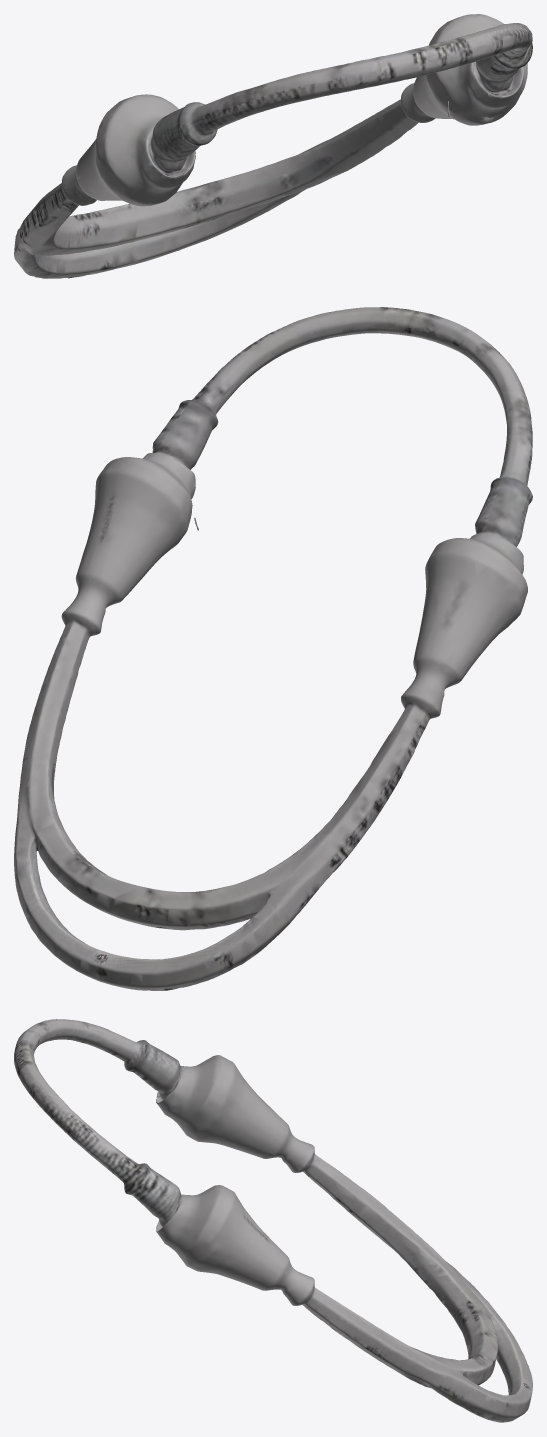
Rendered from vet_equip_endotracheal_tube.glb.
3 renders of one model, top to bottom at view 1: azimuth 30°, elevation 25°; view 2: azimuth 150°, elevation 25°; view 3: azimuth 270°, elevation 25°, orthographic. The views are drawn at different scales.
Parts seen in each view (by area): view 1: model; view 2: model; view 3: model.
Boxes of the visible parts, left/top/right/bottom form: model: left=14, top=14, right=532, bottom=278; model: left=14, top=307, right=532, bottom=990; model: left=14, top=1019, right=532, bottom=1422.
Bounding box in the file's own units: 1.44 × 1.45 × 1.9.
Materials: 1 (1 with a texture image).
